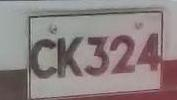2: (108, 32, 137, 80)
3: (83, 34, 113, 80)
4: (136, 28, 165, 78)
C: (30, 30, 59, 84)
K: (53, 32, 86, 82)
